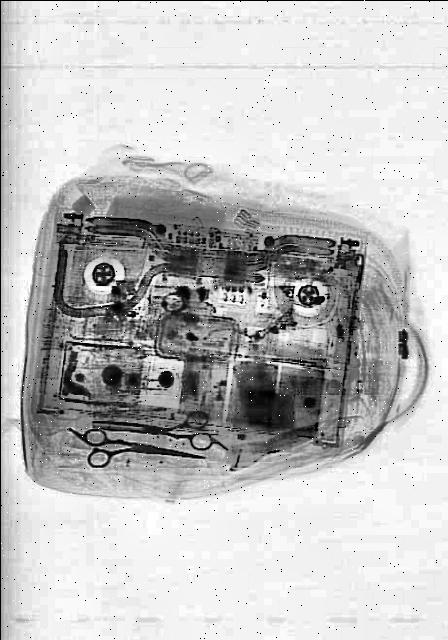Scissors: (79, 426, 207, 476), (88, 400, 212, 450)
